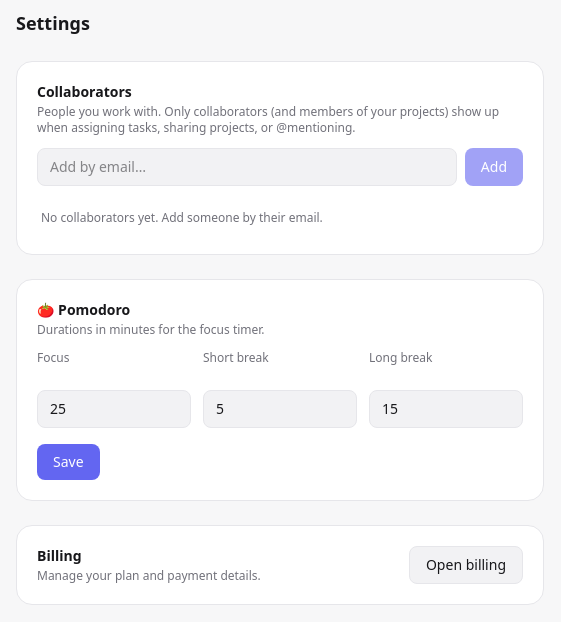
SettingsPage › saves pomodoro durations
Replace the text in the number field labelled "Focus" with "45" at (114, 409), box x1=37 y1=390 x2=191 y2=428
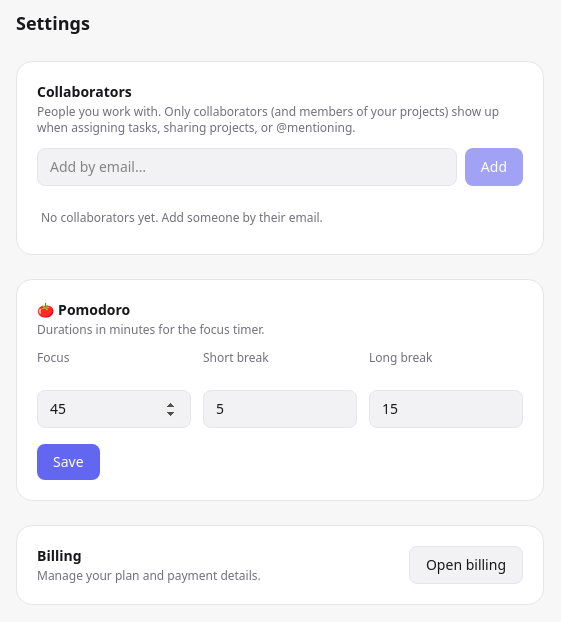
Click the button "Save".
click(68, 462)  # box x1=37 y1=444 x2=100 y2=480
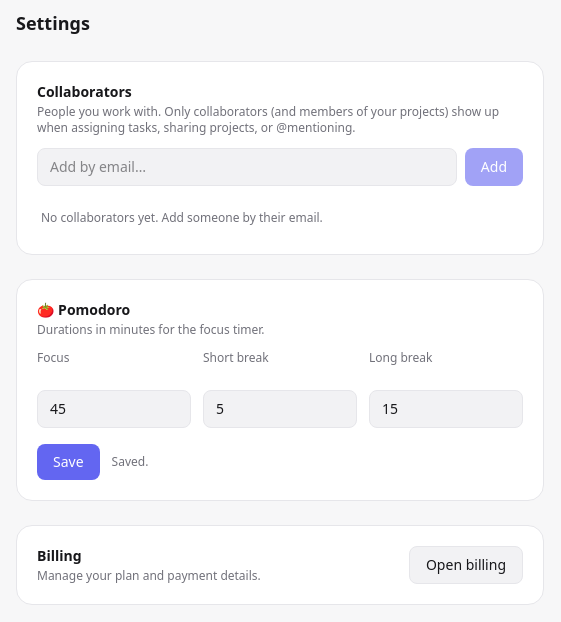
Now the text "Saved." is shown, box x1=112 y1=454 x2=148 y2=470
